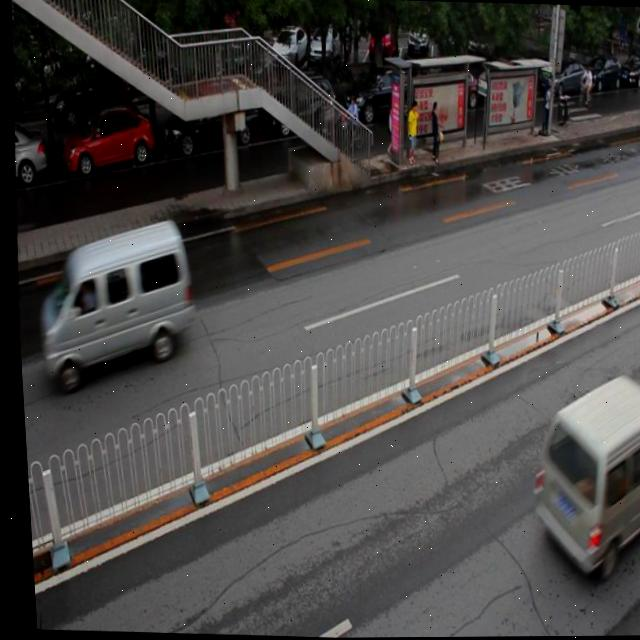car: (58, 102, 154, 176), (161, 96, 258, 154), (256, 79, 339, 143), (340, 68, 422, 131), (10, 122, 50, 188)
truck: (29, 217, 198, 395), (518, 368, 640, 579)
